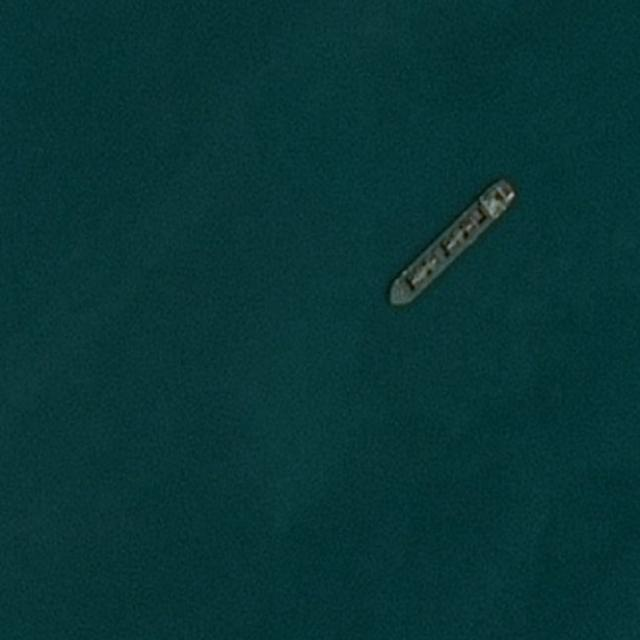Oil Tanker: (381, 170, 521, 316)
